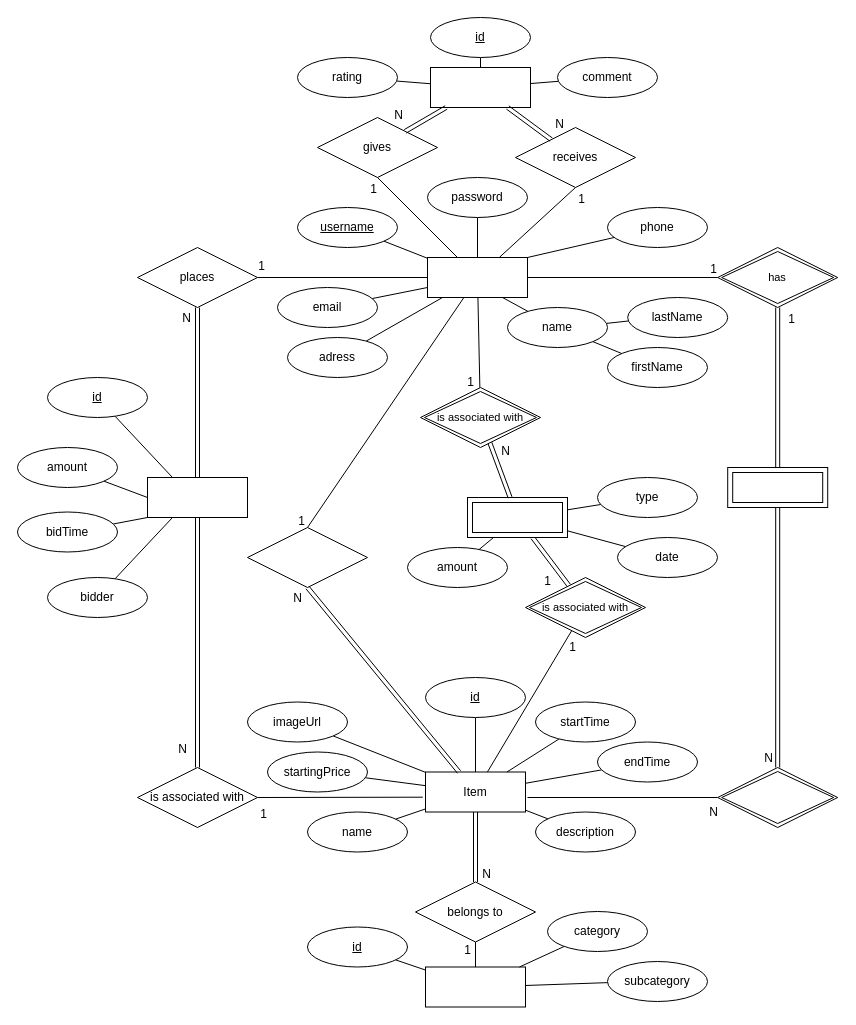
Image size: 856x1025. Some labels were removed from this diagram. The shapes that lost their labels are listed below. From the top down, each one's centre as x and y in pixels, then its label:
(x=480, y=87): Feedback
(x=477, y=277): User
(x=197, y=497): Bid
(x=777, y=487): Watchlist
(x=517, y=517): Payment
(x=307, y=557): sells
(x=777, y=797): features
(x=475, y=986): Categorisation
